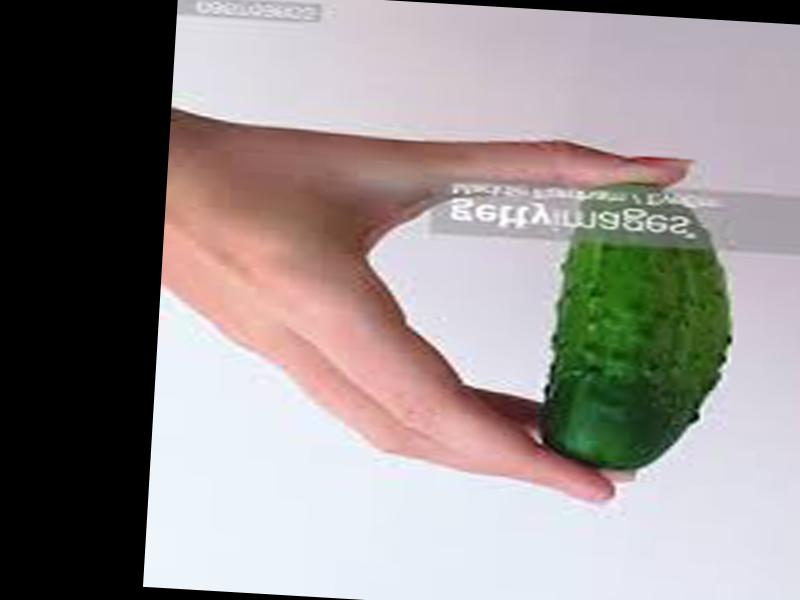Cucumber: (541, 177, 741, 477)
